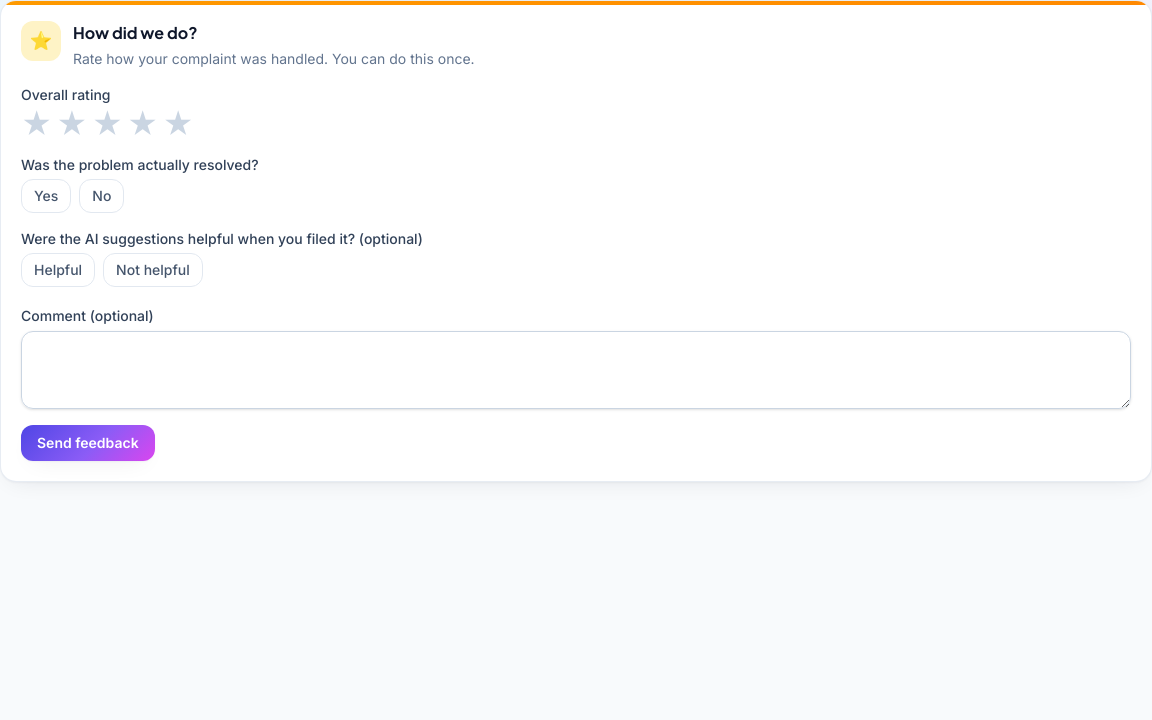
Test case: owner rates a resolved complaint
Click the button "Send feedback".
click(88, 443)  # box [21, 425, 155, 461]
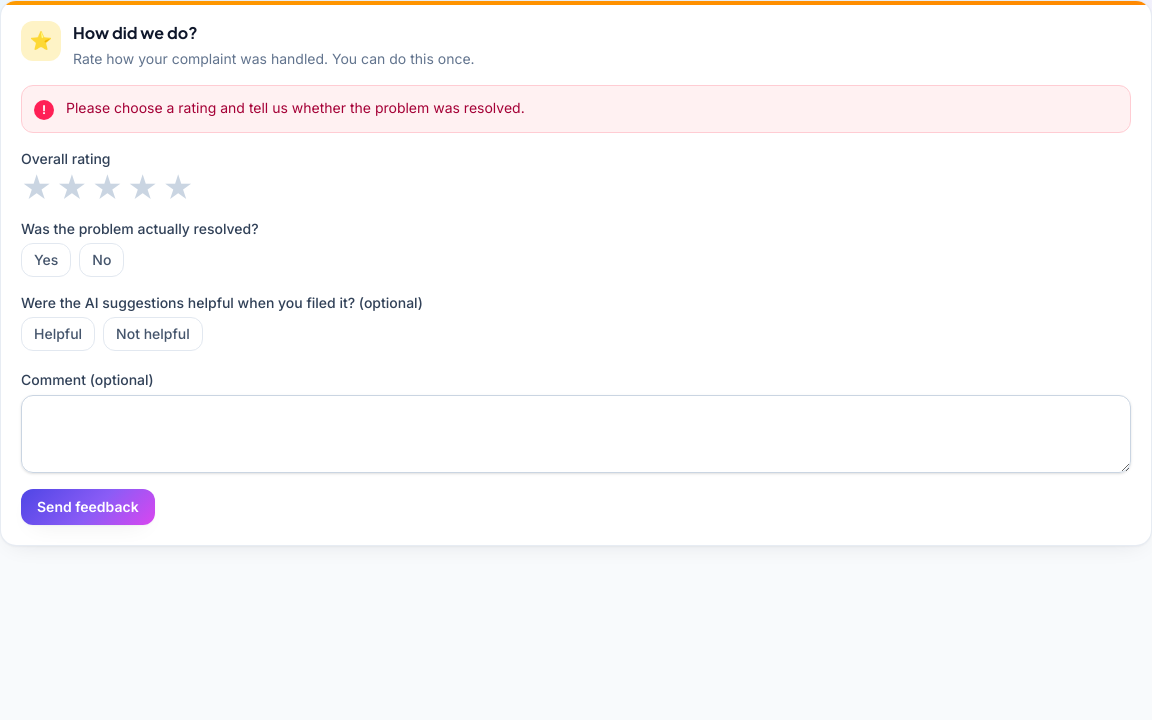
Expected: the text "Please choose a rating" is shown, [66, 99, 525, 116]
Click the radio button named "4 stars".
click(143, 188)  # box [127, 173, 158, 203]
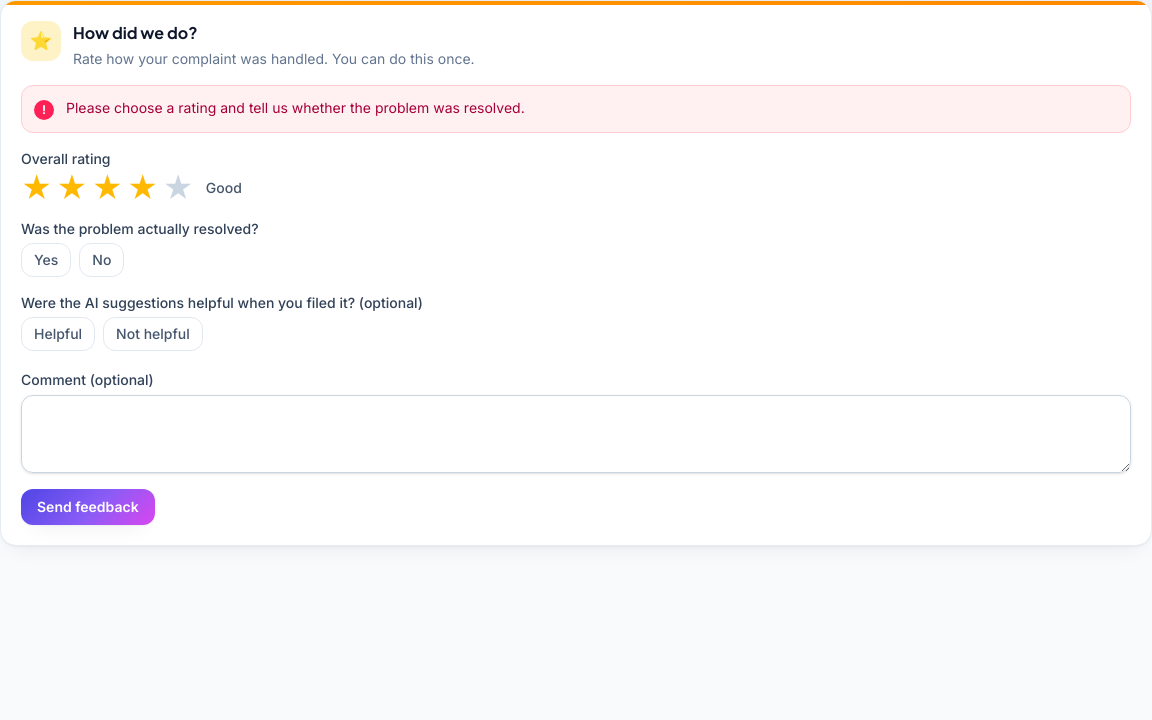
Click the button "Yes".
click(46, 260)  # box [21, 243, 71, 277]
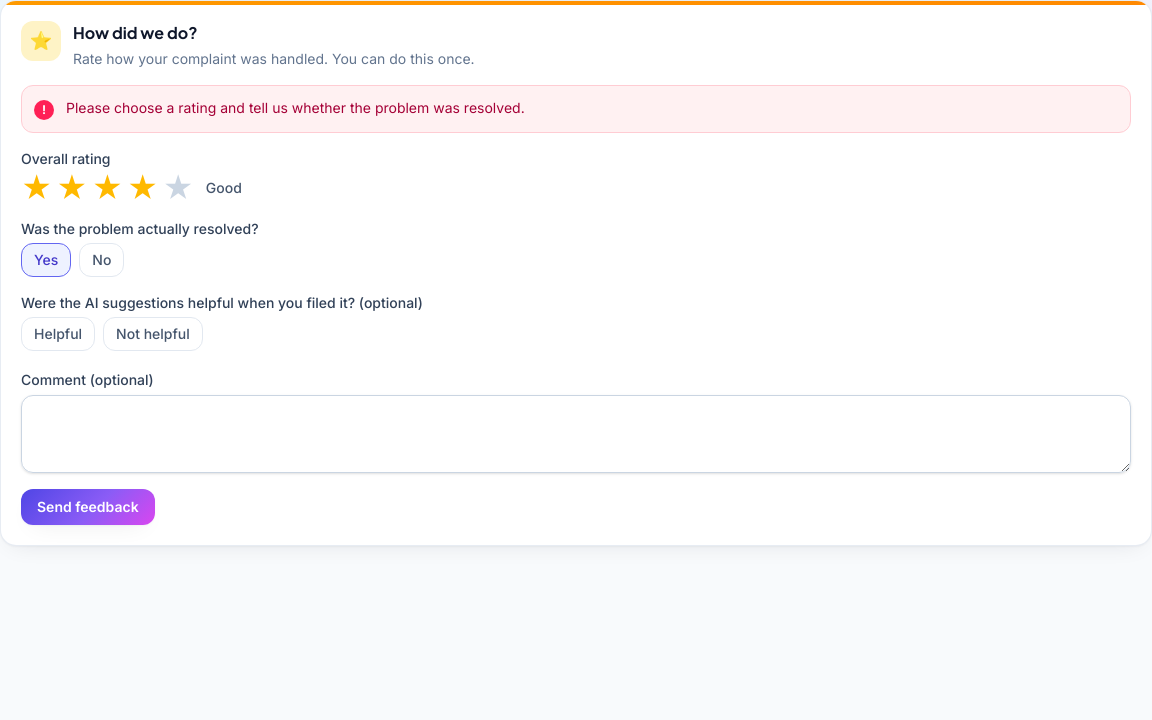
Click the button "Send feedback".
click(88, 507)  # box [21, 489, 155, 525]
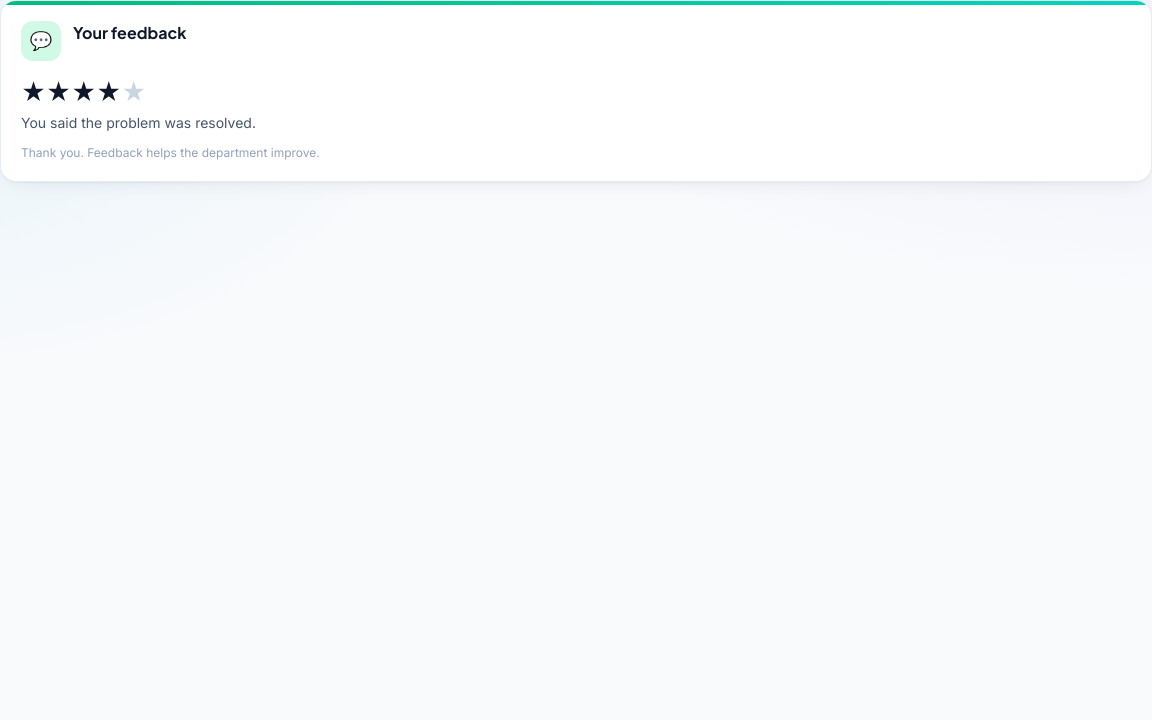
Expected: the heading "Your feedback" is shown, [73, 21, 186, 45]
